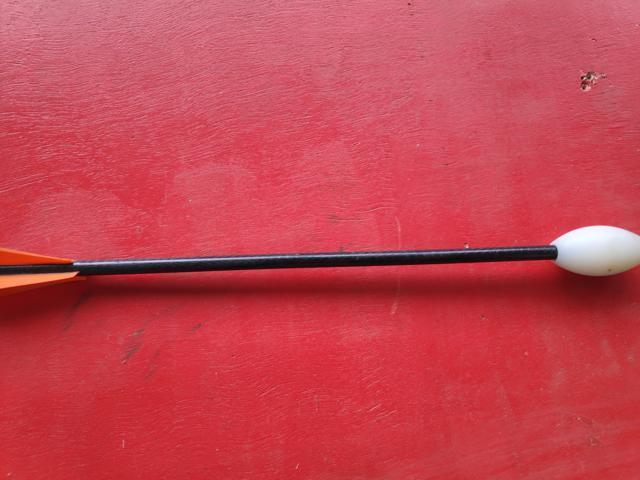Head: (545, 221, 640, 280)
Tail: (1, 237, 88, 295)
